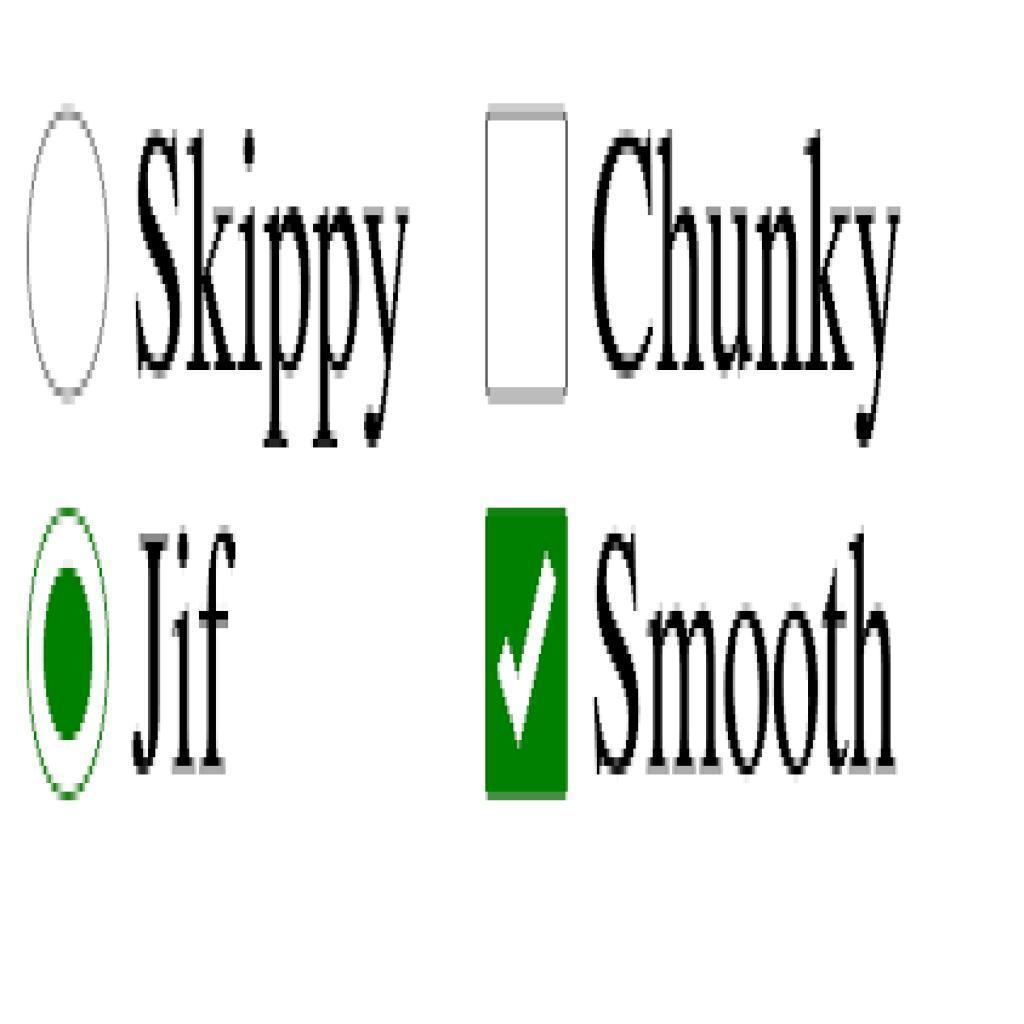checkbox: (488, 509, 572, 802), (488, 111, 568, 396)
radio: (23, 100, 118, 408), (28, 502, 117, 800)
